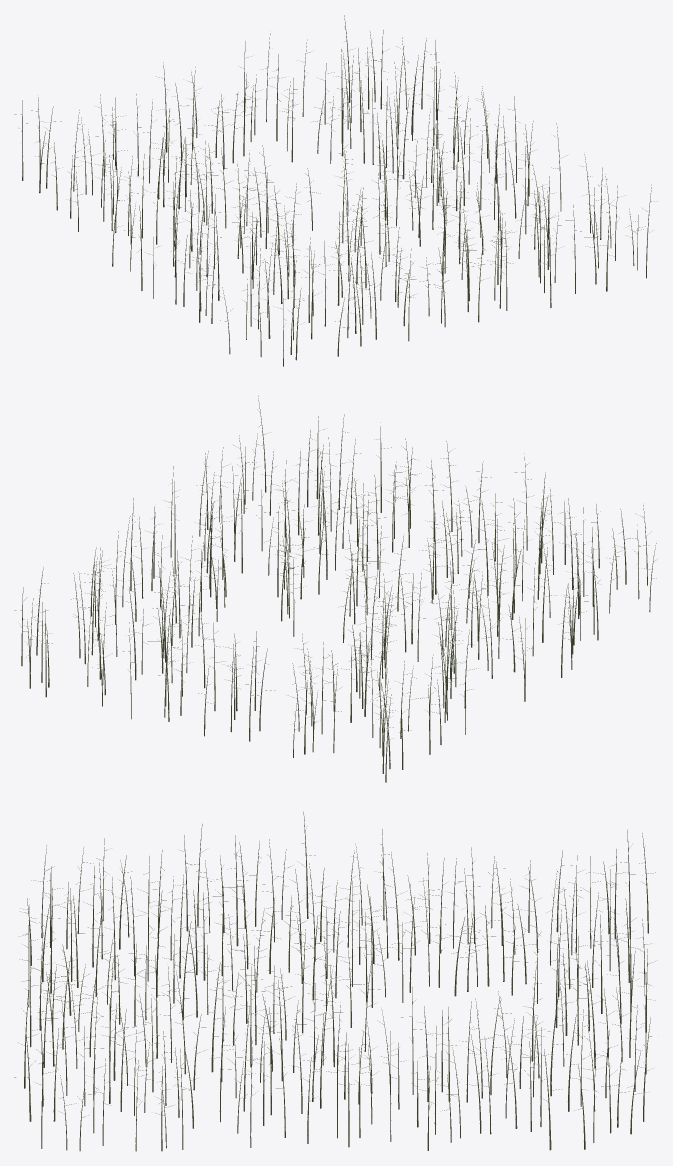
File: bamboo_culms_2.glb
3 renders of one model, top to bottom at view 1: azimuth 30°, elevation 25°; view 2: azimuth 150°, elevation 25°; view 3: azimuth 270°, elevation 25°, orthographic. The views are drawn at different scales.
Visible parts, largest first — view 1: bamboo_culms_20, bamboo_culms_21, bamboo_culms_22, bamboo_culms_23; view 2: bamboo_culms_20, bamboo_culms_21, bamboo_culms_22, bamboo_culms_23; view 3: bamboo_culms_20, bamboo_culms_22, bamboo_culms_21, bamboo_culms_23.
Part boxes in pixels (x1,y1,x2,y2): bamboo_culms_20: [14, 15, 456, 232]; bamboo_culms_21: [112, 72, 534, 290]; bamboo_culms_22: [148, 121, 604, 326]; bamboo_culms_23: [218, 167, 657, 366]; bamboo_culms_20: [14, 550, 471, 782]; bamboo_culms_21: [81, 498, 574, 714]; bamboo_culms_22: [164, 451, 599, 669]; bamboo_culms_23: [203, 396, 656, 615]; bamboo_culms_20: [455, 829, 655, 1150]; bamboo_culms_22: [143, 824, 301, 1151]; bamboo_culms_21: [291, 811, 472, 1150]; bamboo_culms_23: [14, 838, 170, 1151].
Bounding box in the file's own units: 82.83 × 17.86 × 93.05.
Materials: 1 (1 with a texture image).
